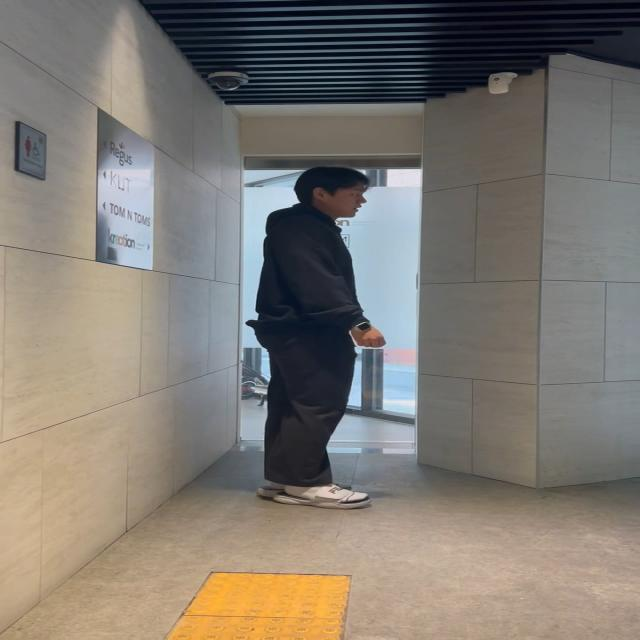leg: (250, 320, 370, 512)
